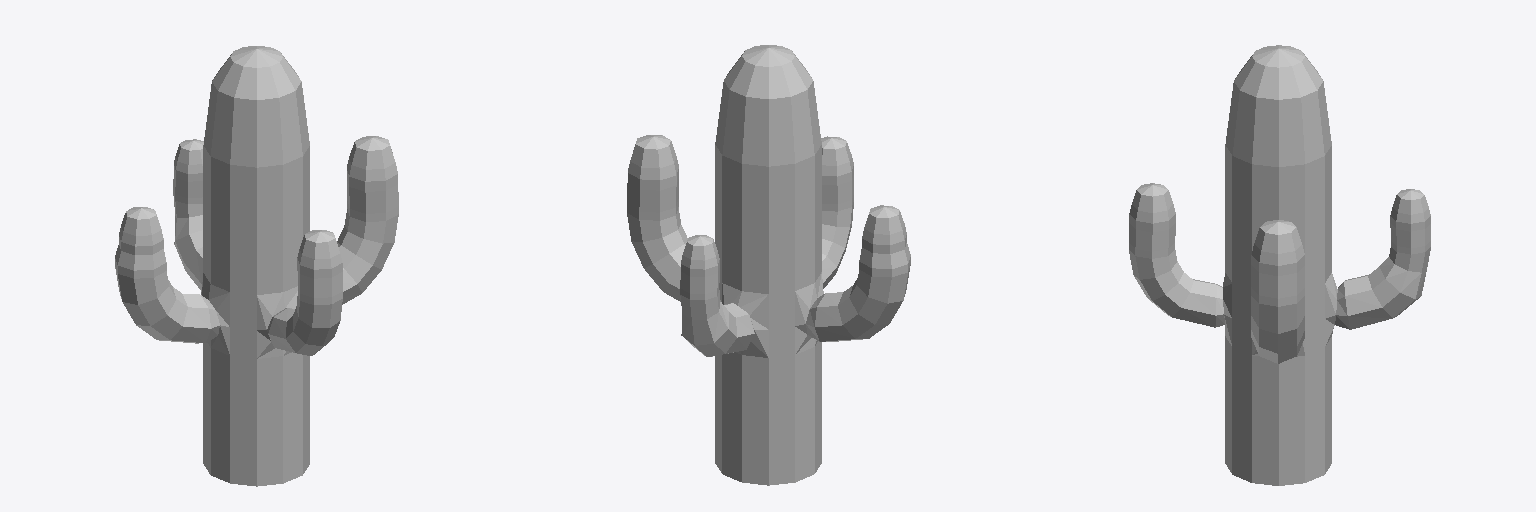
File: saguarocactus.obj
The picture shows the model from 3 angles: view 1: azimuth 30°, elevation 25°; view 2: azimuth 150°, elevation 25°; view 3: azimuth 270°, elevation 25°; orthographic projection.
Visible parts, largest first — view 1: polySurface1; view 2: polySurface1; view 3: polySurface1.
Boxes of the visible parts, x1,y1,x2,y2 form: polySurface1: [115, 46, 398, 486]; polySurface1: [627, 45, 910, 485]; polySurface1: [1129, 45, 1430, 485].
Bounding box in the file's own units: 7.96 × 11.33 × 7.49.